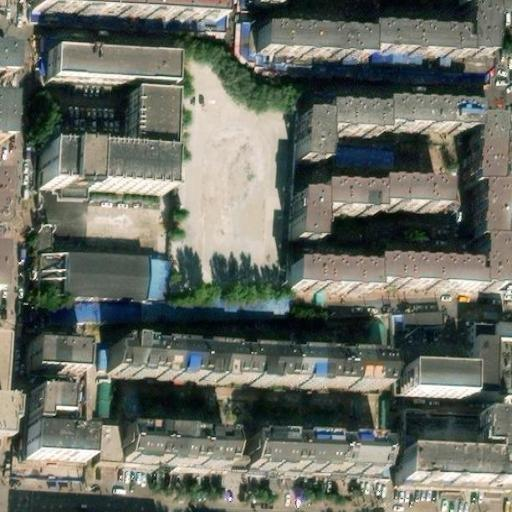building: (128, 329, 402, 382), (413, 401, 512, 472), (383, 229, 512, 281), (39, 250, 173, 300), (25, 0, 214, 33), (378, 0, 496, 50), (35, 155, 157, 203), (41, 299, 291, 321), (262, 425, 397, 464), (39, 65, 162, 106), (136, 418, 244, 461), (344, 62, 491, 89), (270, 17, 379, 48), (392, 91, 485, 124), (470, 322, 512, 389), (115, 103, 160, 161), (306, 252, 384, 282), (390, 170, 460, 203), (43, 417, 103, 453), (483, 107, 512, 178), (407, 359, 471, 389), (332, 174, 391, 204), (336, 95, 393, 122), (309, 103, 337, 152), (306, 183, 333, 233), (40, 336, 92, 361), (487, 178, 512, 230), (44, 383, 80, 417), (391, 310, 444, 330), (0, 40, 19, 74), (0, 347, 8, 423), (0, 176, 9, 235), (0, 98, 9, 140)
